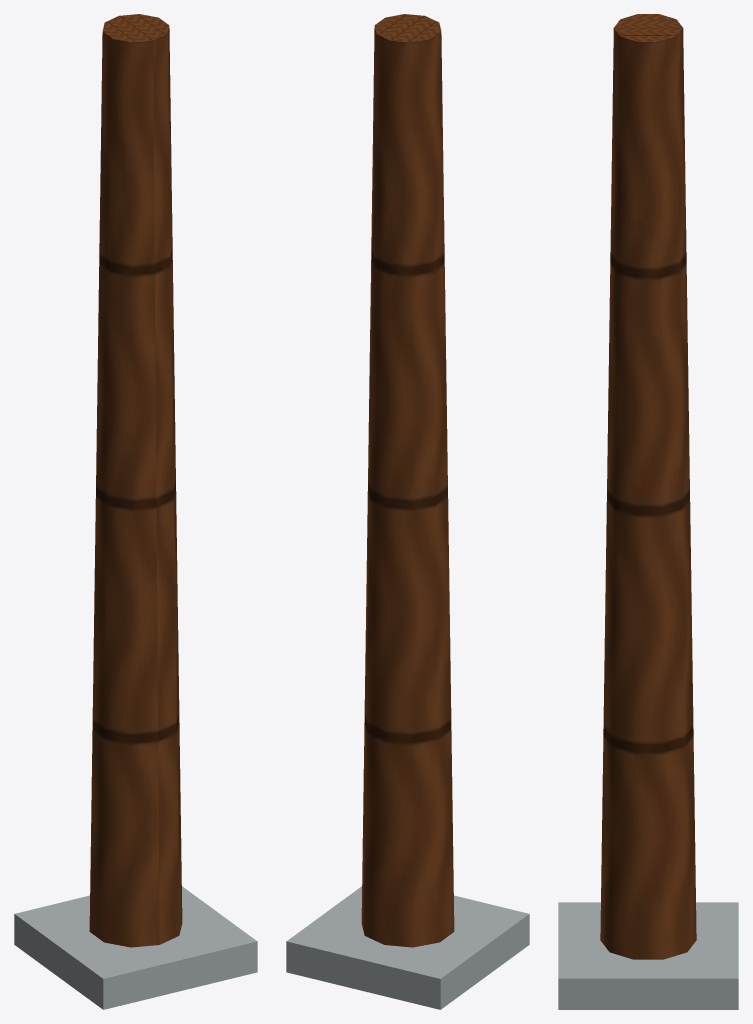
Rendered from modular-survival-base-builder-round-pole-42e06ec6__24215.glb.
3 views of the same model, side by side, from view 1: azimuth 30°, elevation 25°; view 2: azimuth 150°, elevation 25°; view 3: azimuth 270°, elevation 25° (orthographic).
Visible parts, largest first — view 1: round-pole; view 2: round-pole; view 3: round-pole.
Part boxes in pixels (x1,y1,x2,y2): round-pole: (14,14,257,1009); round-pole: (286,14,529,1009); round-pole: (558,14,738,1009).
Size of the model in its own units: 0.416 by 2.4 by 0.416.
2 materials, 1 textured.
